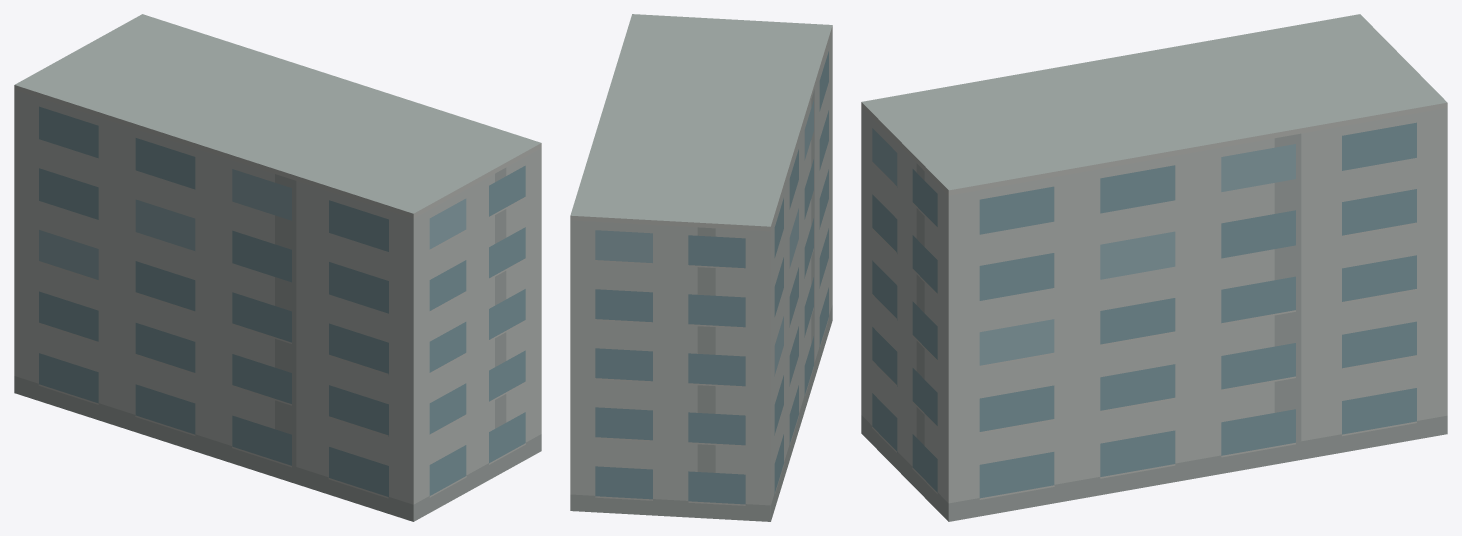
File: residential-47e2b467-b801-42a9-81a8-ae59e11399b4.glb
3 views of the same model, side by side, from view 1: azimuth 30°, elevation 25°; view 2: azimuth 150°, elevation 25°; view 3: azimuth 270°, elevation 25° (orthographic). The views are drawn at different scales.
Parts seen in each view (by area): view 1: residential-47e2b467-b801-42a9-81a8-ae59e11399b4.tmp; view 2: residential-47e2b467-b801-42a9-81a8-ae59e11399b4.tmp; view 3: residential-47e2b467-b801-42a9-81a8-ae59e11399b4.tmp.
Boxes of the visible parts, x1=… form: residential-47e2b467-b801-42a9-81a8-ae59e11399b4.tmp: x1=14, y1=14, x2=541, y2=521; residential-47e2b467-b801-42a9-81a8-ae59e11399b4.tmp: x1=570, y1=14, x2=832, y2=521; residential-47e2b467-b801-42a9-81a8-ae59e11399b4.tmp: x1=861, y1=14, x2=1447, y2=521.
Size of the model in its own units: 17.41 by 15.25 by 24.45.
